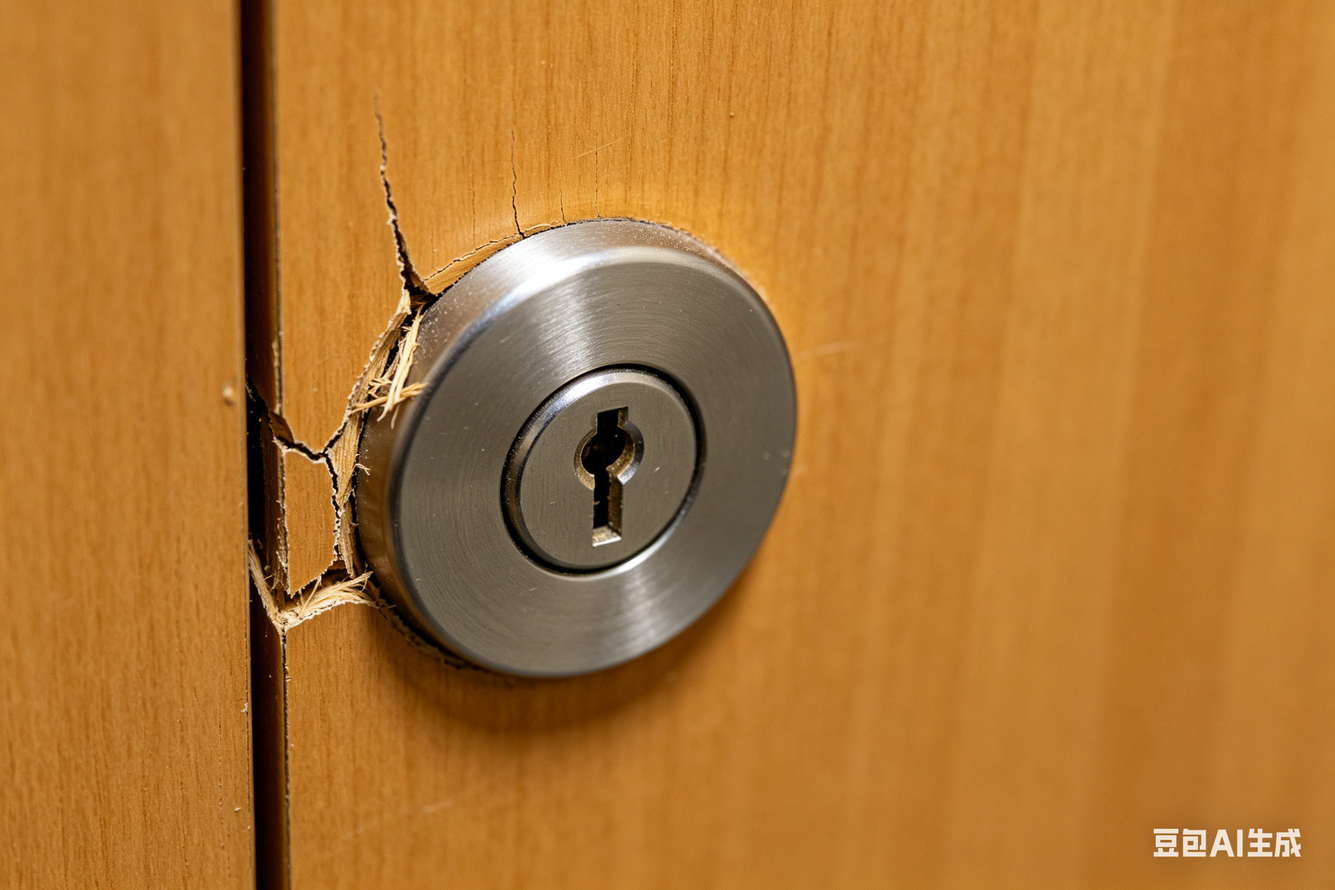BadLock: (254, 202, 511, 633)
